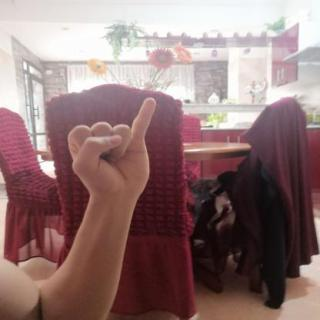MEEM: (51, 87, 173, 208)
